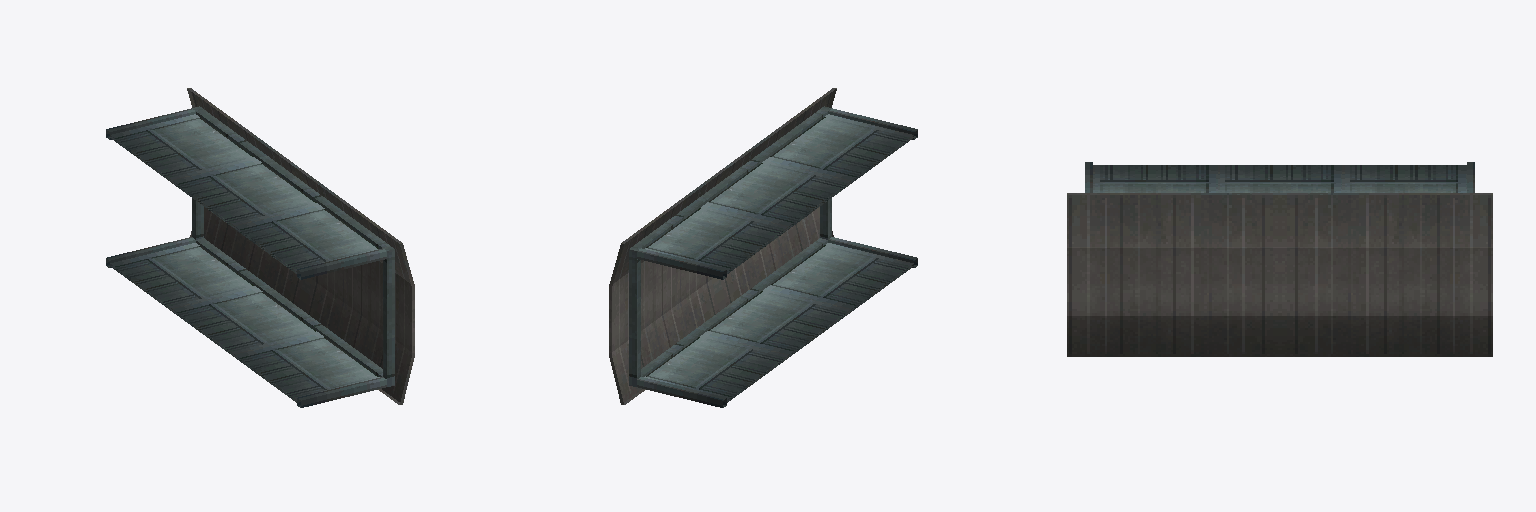
3 views of the same model, side by side, from view 1: azimuth 30°, elevation 25°; view 2: azimuth 150°, elevation 25°; view 3: azimuth 270°, elevation 25° (orthographic).
Visible parts, largest first — view 1: shopping_cart_shelter.002; view 2: shopping_cart_shelter.002; view 3: shopping_cart_shelter.002.
Part boxes in pixels (left/top/right/bottom): shopping_cart_shelter.002: left=106, top=88, right=414, bottom=407; shopping_cart_shelter.002: left=609, top=88, right=917, bottom=407; shopping_cart_shelter.002: left=1067, top=162, right=1492, bottom=356.
Bounding box in the file's own units: 3.31 × 4.83 × 11.55.
1 materials, 1 textured.